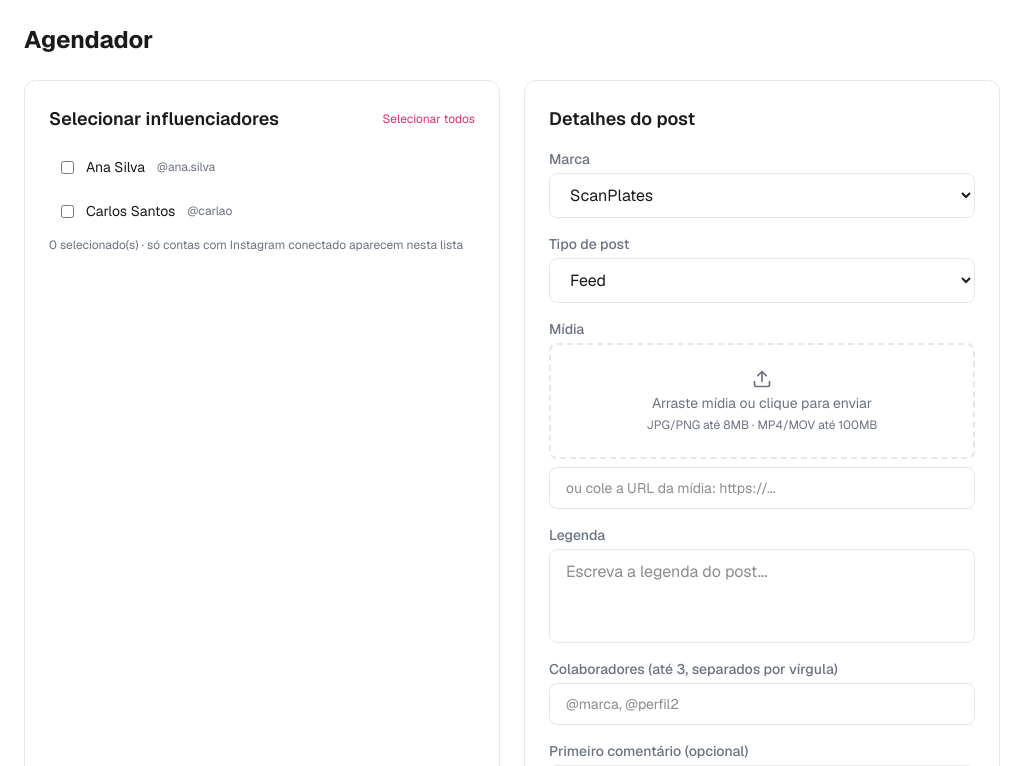
Scenario: AdminScheduler › requires media before scheduling
Click the text "Ana Silva" at (116, 167), box [86, 157, 145, 177]
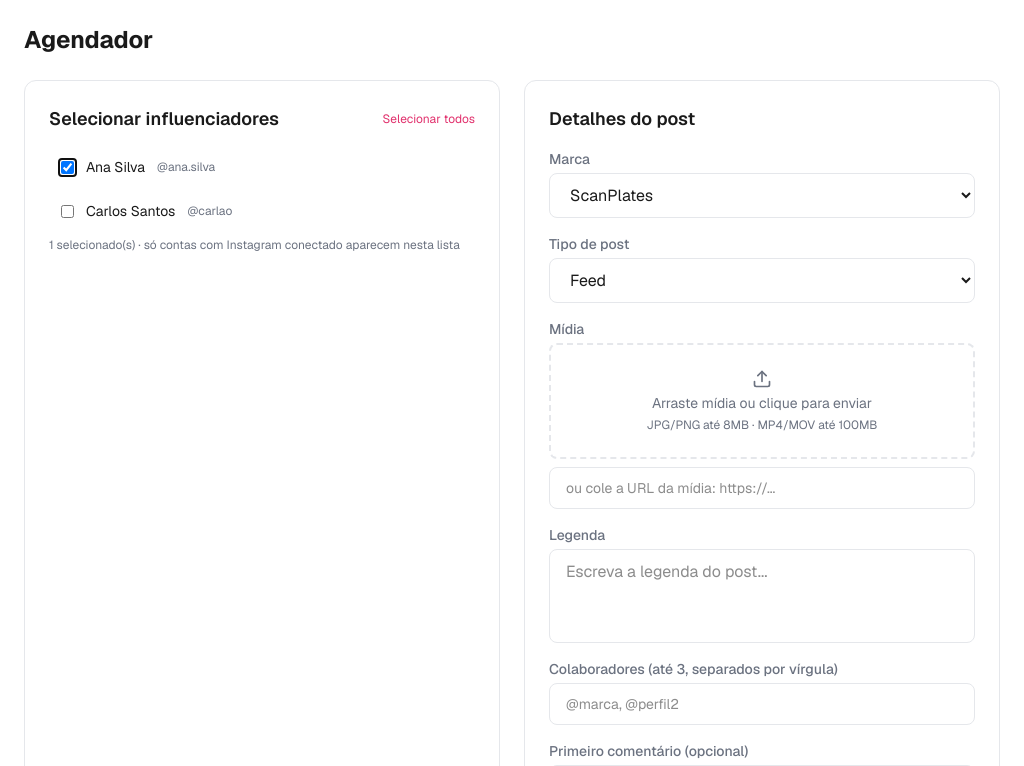
Type "Olá!" into the text box with placeholder "Escreva a legenda do post..." at (762, 596), box [549, 549, 975, 643]
(page scrolled)
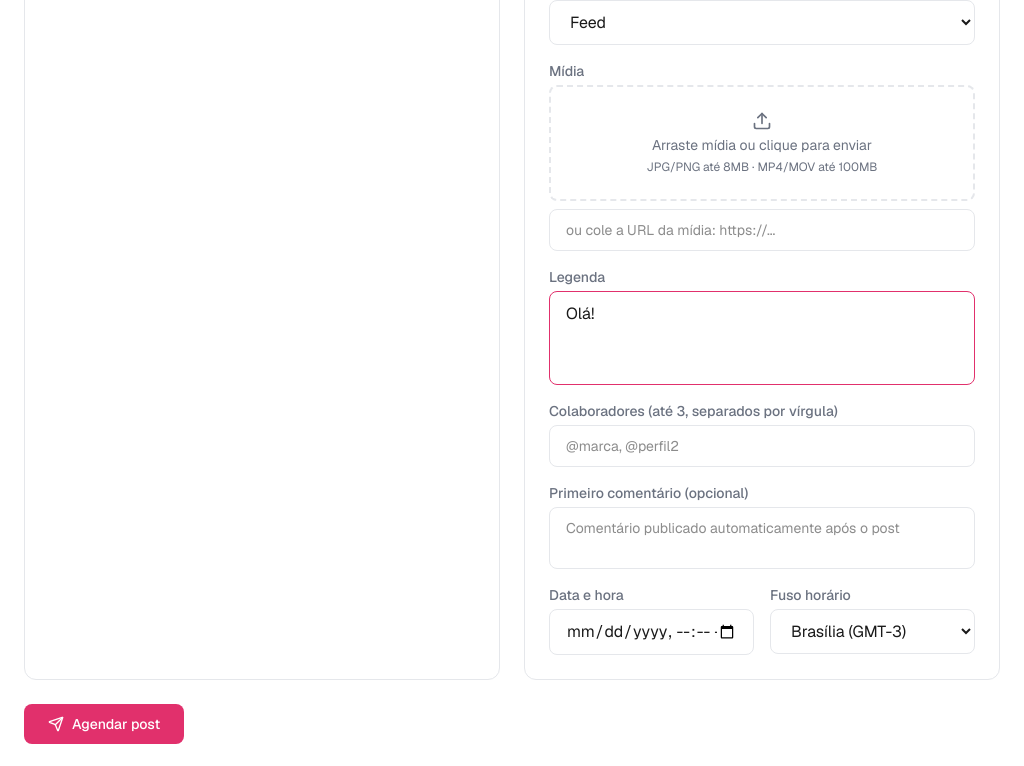
Type "2099-06-12T17:00" into the 3rd field at (652, 632), box [549, 609, 754, 655]
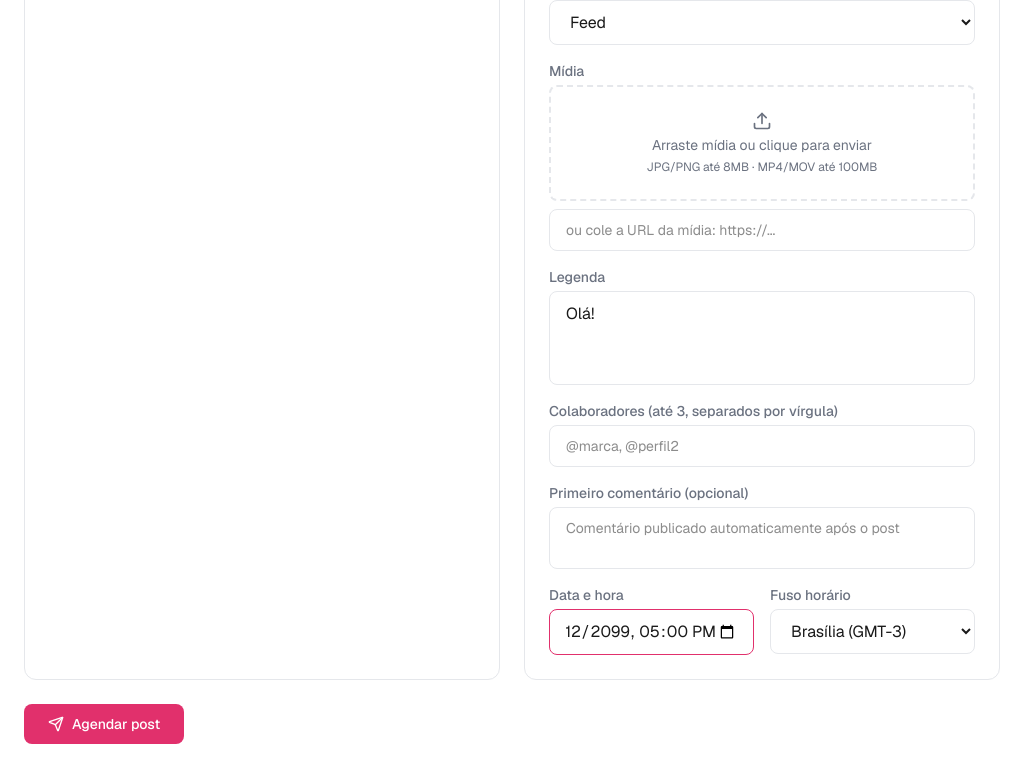
Click the button "Agendar post" at (104, 724), box [24, 704, 184, 744]
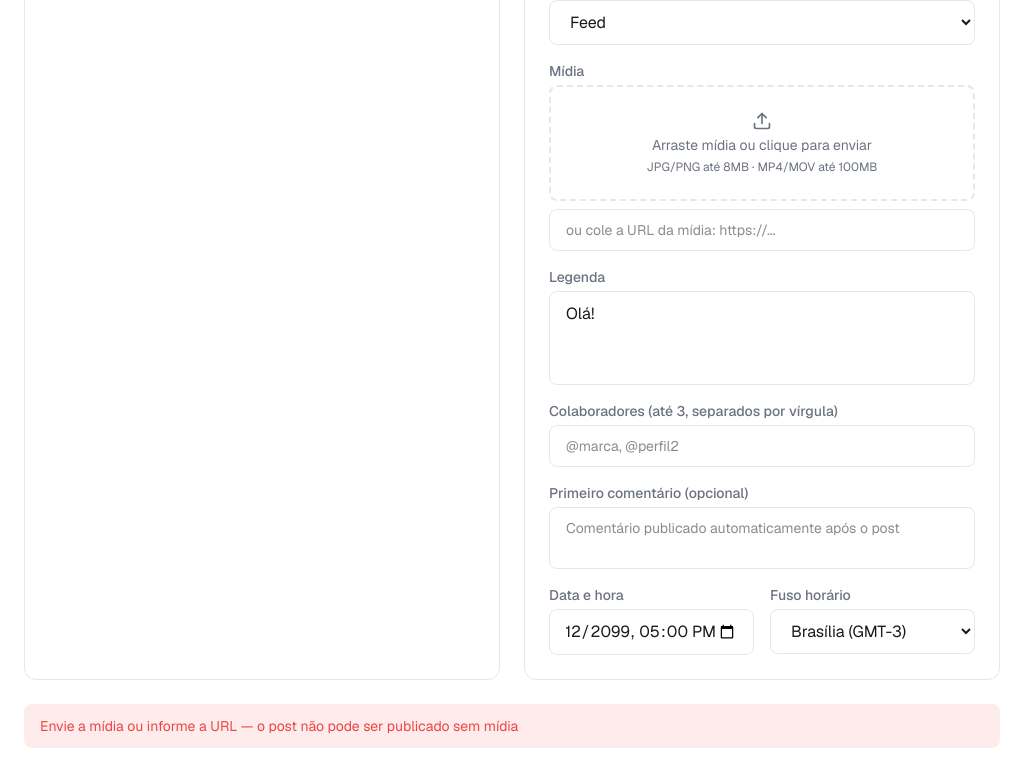
Check: the text "não pode ser publicado sem mídia" is shown, box [40, 717, 518, 735]
